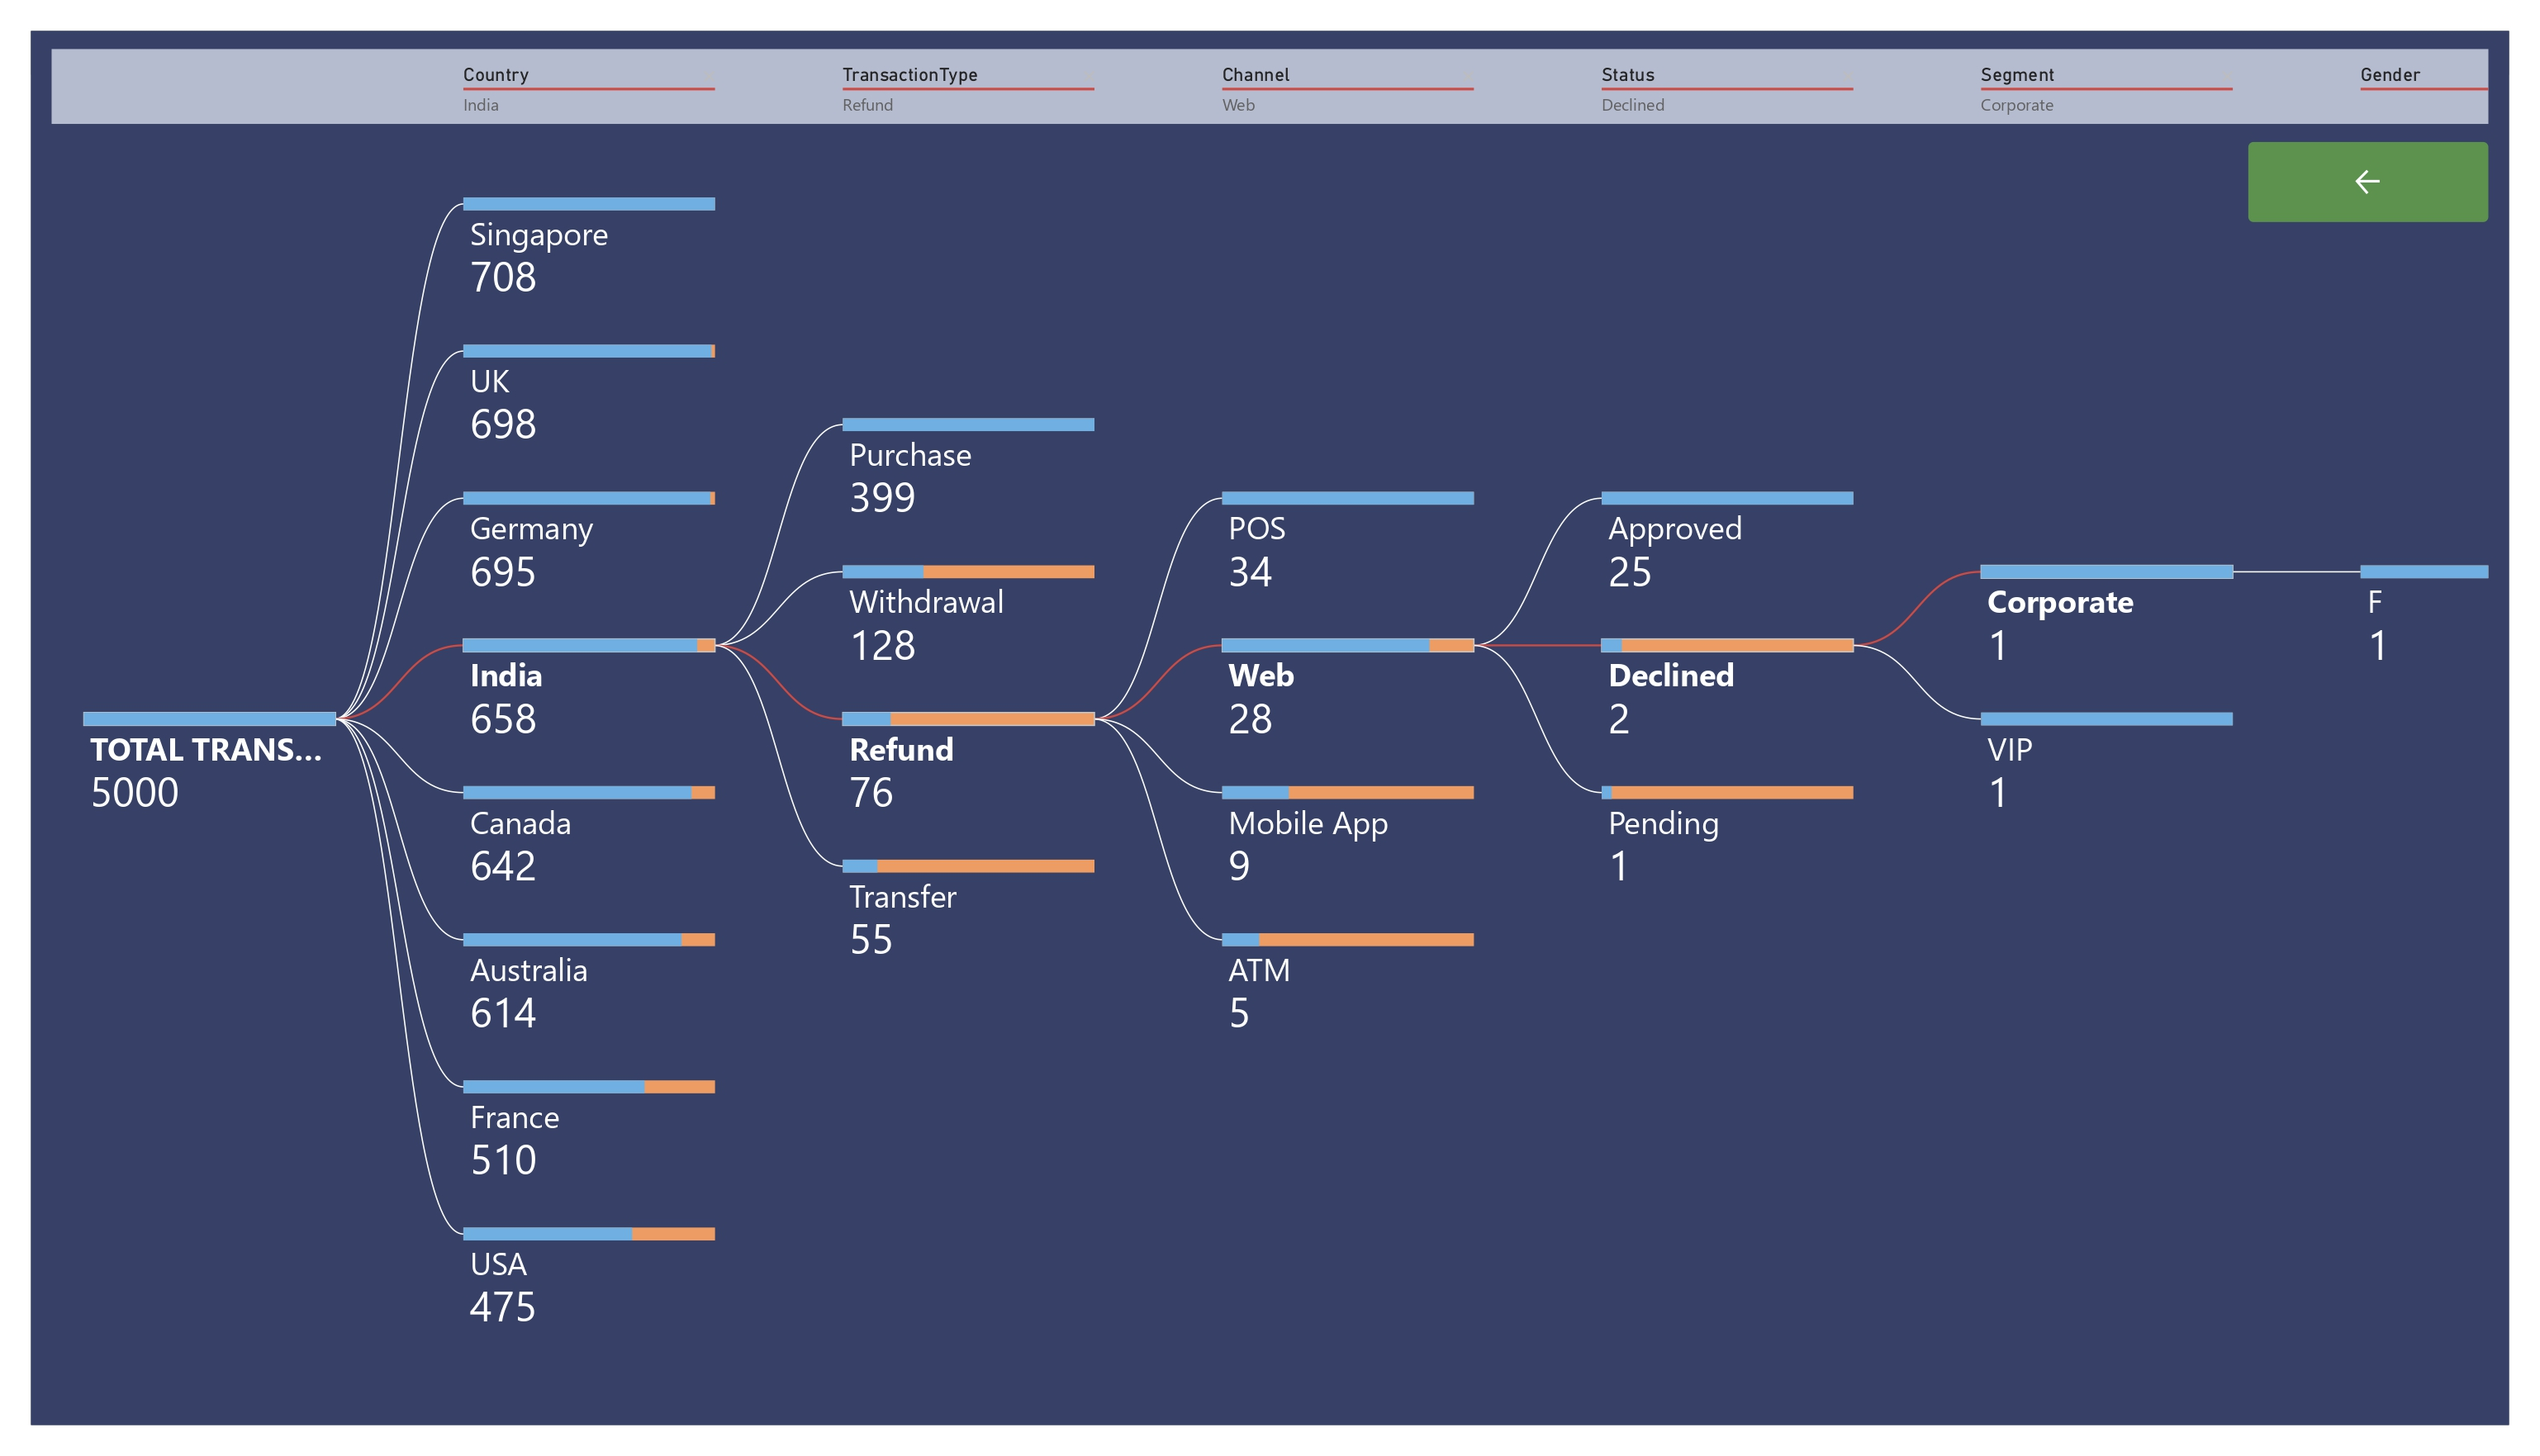

This screenshot's page, from the dashboard's own definition file:
{"tool":"powerbi","page":{"name":"Page 2","canvas":[1920,1080],"ordinal":1},"visuals":[{"type":"decompositionTreeVisual","fields":{"Analyze":["measure.TOTAL TRANSACTIONS"],"ExplainBy":["Merchant.Country","Transactions.TransactionType","Transactions.Channel","Transactions.Status","Customer.Segment","Customer.Gender"]},"box":[0,0,1920,1080],"z":1000},{"type":"actionButton","box":[1718,86,186,62],"z":1001}]}

Visuals, with their boxes in screenshot pixels (x1, y1, x2, y2):
decompositionTreeVisual - measure.TOTAL TRANSACTIONS x Merchant.Country: left=20, top=20, right=2525, bottom=1429
actionButton: left=2261, top=132, right=2504, bottom=213
